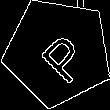P_NW: (27, 21, 89, 83)
